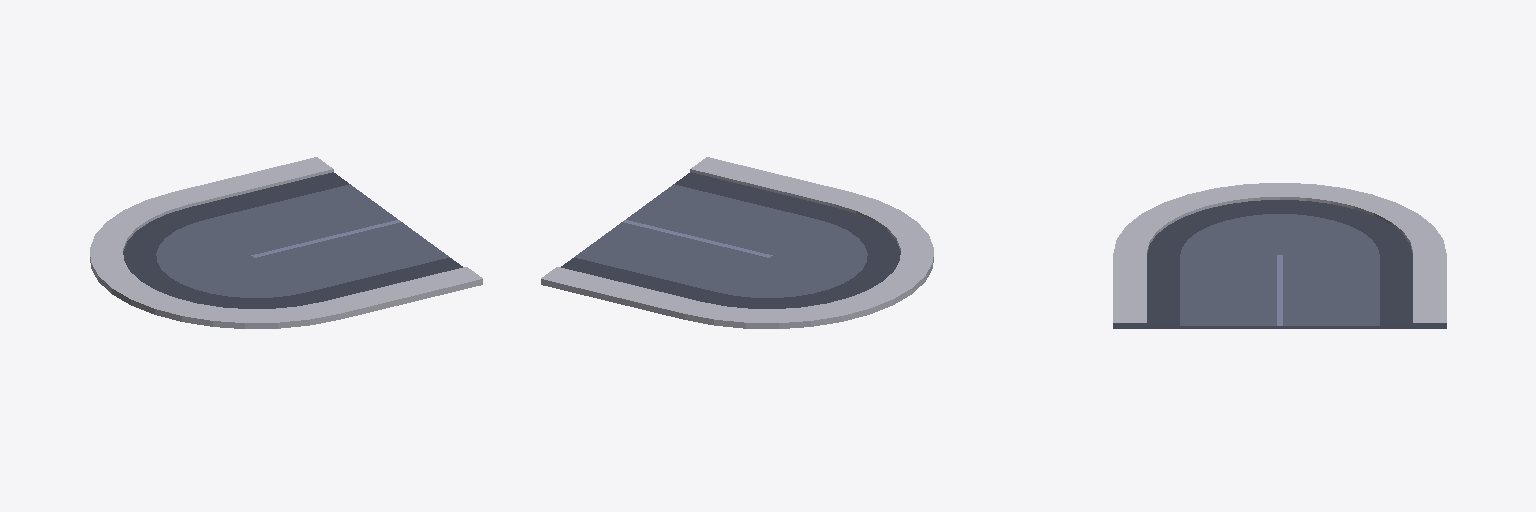
The model's file is road_endRound.obj.
The picture shows the model from 3 angles: view 1: azimuth 30°, elevation 25°; view 2: azimuth 150°, elevation 25°; view 3: azimuth 270°, elevation 25°; orthographic projection.
Visible parts, largest first — view 1: road_endRound; view 2: road_endRound; view 3: road_endRound.
Boxes of the visible parts, x1,y1,x2,y2 form: road_endRound: [90, 157, 482, 328]; road_endRound: [541, 157, 933, 328]; road_endRound: [1113, 183, 1446, 328].
Bounding box in the file's own units: 1 × 0.02 × 1.